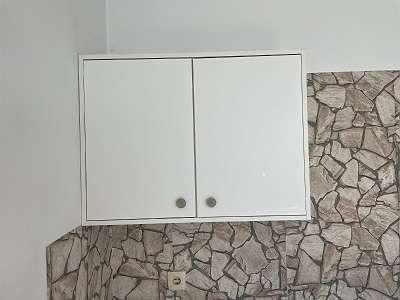cabinet_door: (88, 61, 196, 220), (199, 58, 305, 216)
handle: (173, 194, 189, 211), (205, 194, 219, 211)
